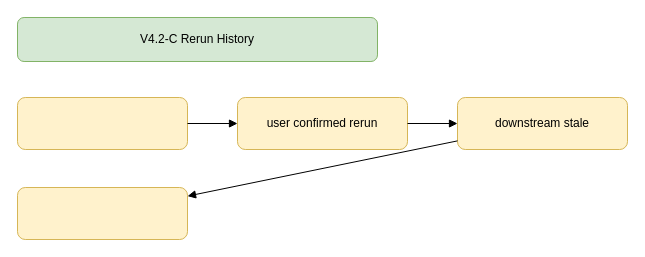
Image size: 645x257. Some labels were removed from this diagram. The centre of each missing label's shape, as x and y in pixels:
"continued" goes at (102,213).
"failed attempt" goes at (102,123).
